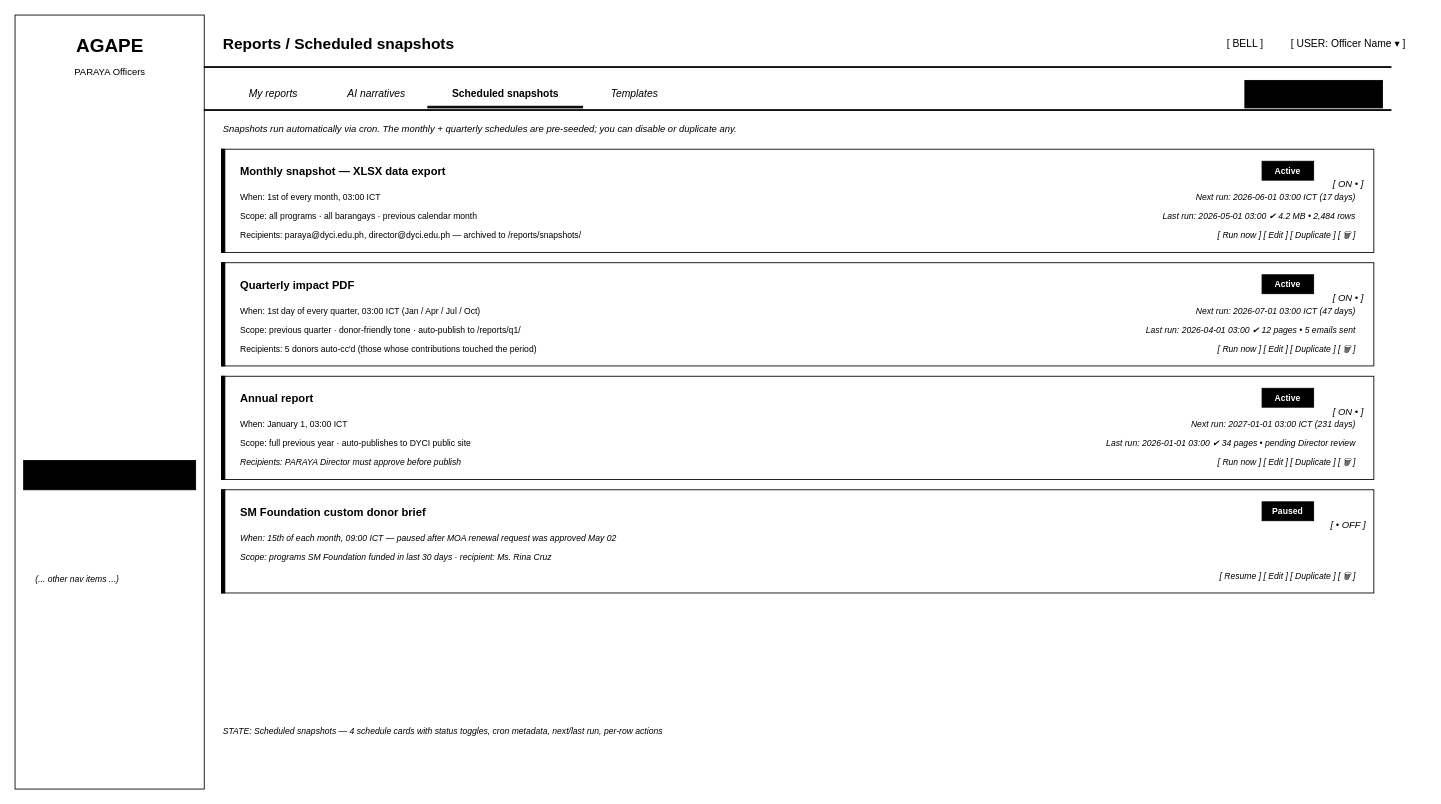
Image size: 1441x804. Some labels were removed from this diagram. Each missing label, with the centre of its shape:
"[ + Add schedule ]" goes at (x=1313, y=94).
"[x] Reports" goes at (x=109, y=475).
